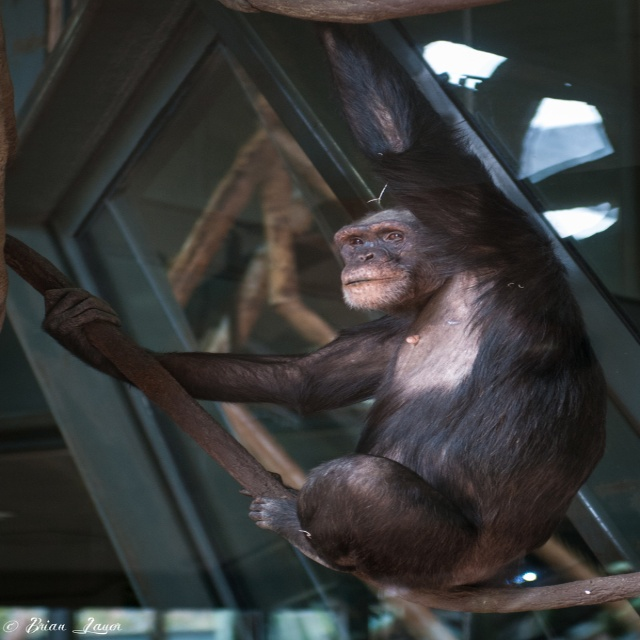Monkey: (41, 23, 608, 593)
